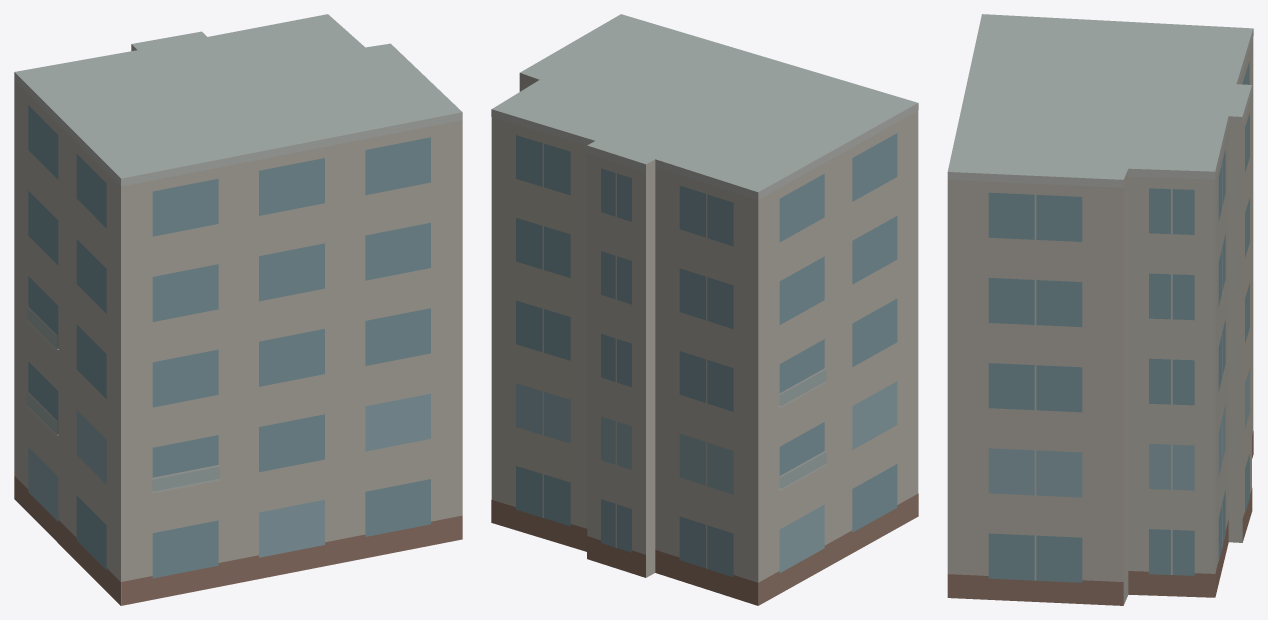
File: survey-upis-32742672.glb
3 views of the same model, side by side, from view 1: azimuth 30°, elevation 25°; view 2: azimuth 150°, elevation 25°; view 3: azimuth 270°, elevation 25° (orthographic). The views are drawn at different scales.
Visible parts, largest first — view 1: survey-upis-32742672.tmp; view 2: survey-upis-32742672.tmp; view 3: survey-upis-32742672.tmp.
Boxes of the visible parts, box(x1,y1,x2,y2) form: survey-upis-32742672.tmp: box(14, 14, 462, 605); survey-upis-32742672.tmp: box(491, 14, 918, 605); survey-upis-32742672.tmp: box(947, 14, 1253, 605).
Size of the model in its own units: 11.03 by 13.2 by 8.6.
